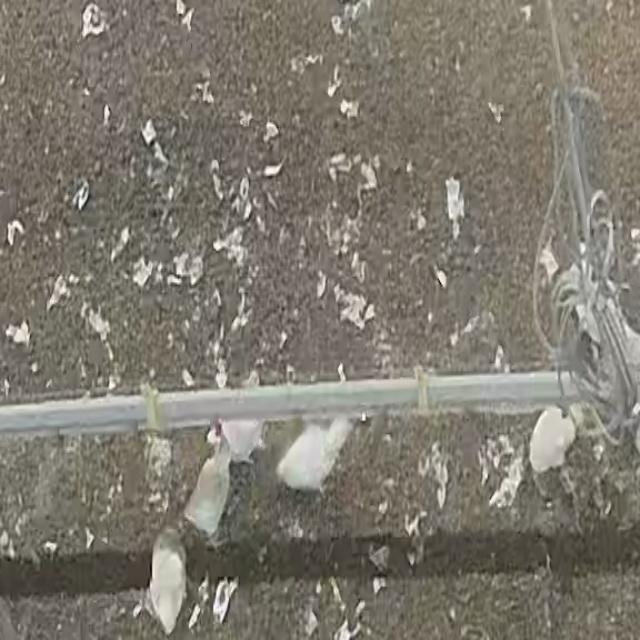chicken: (275, 414, 357, 492), (183, 452, 234, 530), (148, 534, 190, 622), (528, 408, 573, 471)
